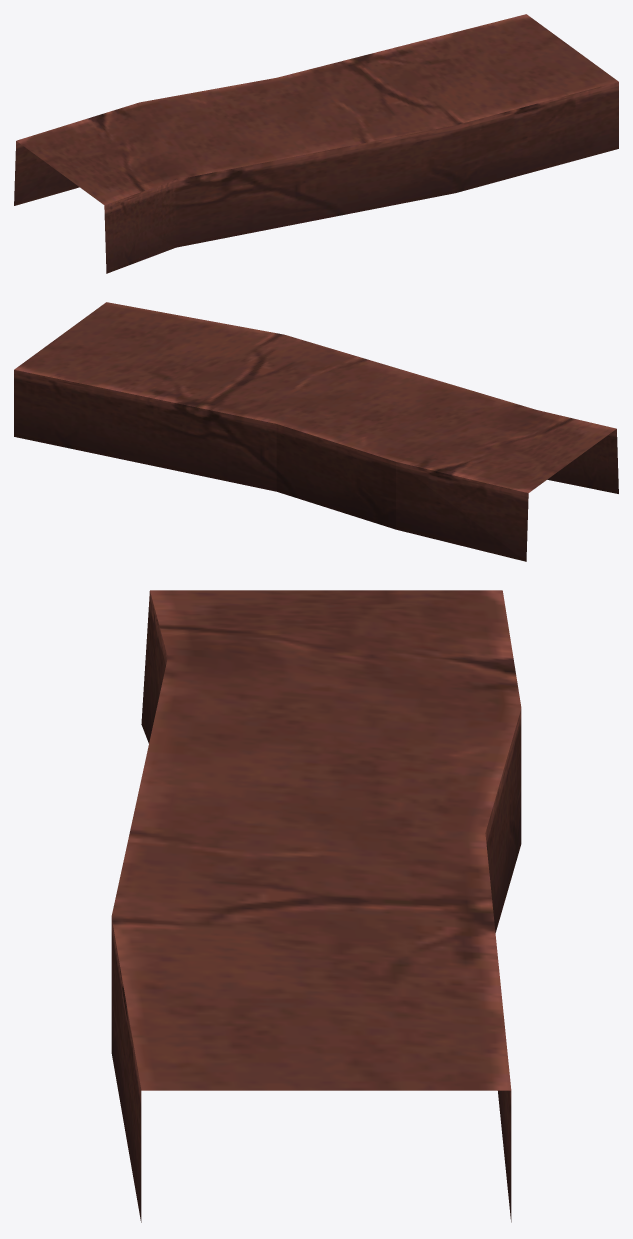
The model's file is lava_cap_straight_flat_01.fbx.
The picture shows the model from 3 angles, top to bottom: view 1: azimuth 30°, elevation 25°; view 2: azimuth 150°, elevation 25°; view 3: azimuth 270°, elevation 25°; orthographic projection. The views are drawn at different scales.
Parts seen in each view (by area): view 1: obj0.149; view 2: obj0.149; view 3: obj0.149.
Part boxes in pixels (x1=…): obj0.149: x1=14, y1=14, x2=618, y2=273; obj0.149: x1=14, y1=302, x2=618, y2=561; obj0.149: x1=111, y1=590, x2=521, y2=1222.
Size of the model in its own units: 4 by 0.5271 by 1.39.
